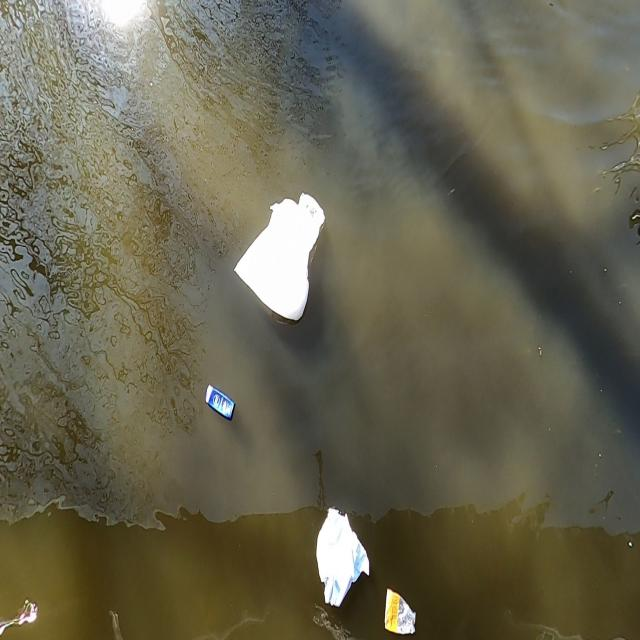Autre plastique: (199, 380, 237, 425)
